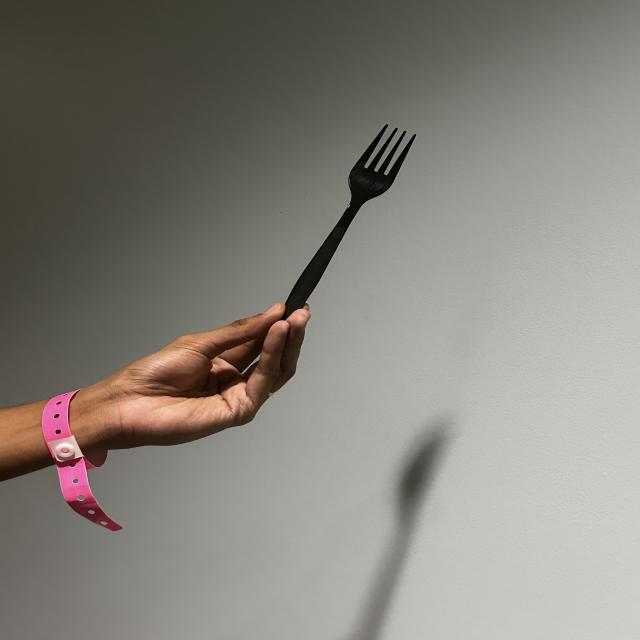fork: (267, 113, 453, 335)
